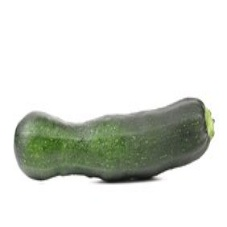cucumber: (14, 97, 214, 184)
